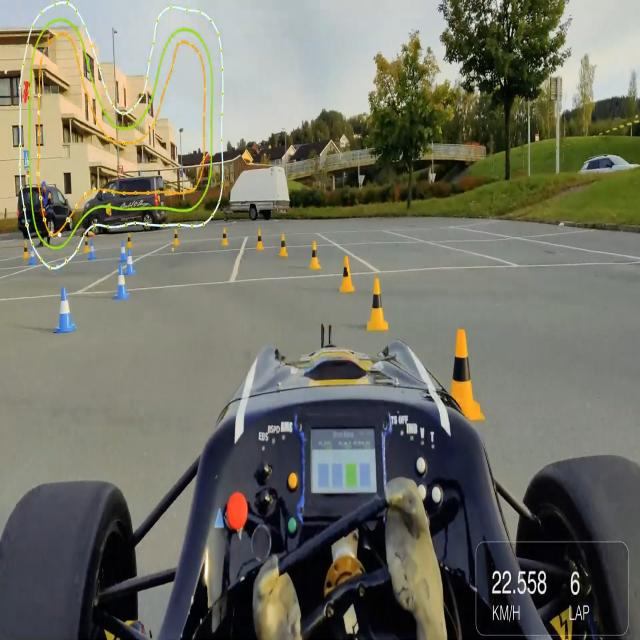blue_cone: (53, 280, 77, 338), (115, 264, 131, 305), (126, 249, 137, 280), (118, 237, 127, 266), (88, 239, 98, 262), (28, 244, 37, 268)
yellow_cone: (444, 323, 486, 426), (365, 278, 389, 332), (337, 253, 356, 296), (308, 237, 322, 273), (277, 231, 289, 260), (254, 228, 266, 254), (125, 228, 136, 252), (220, 226, 230, 248), (172, 226, 180, 248), (22, 239, 29, 260), (84, 234, 90, 254)
